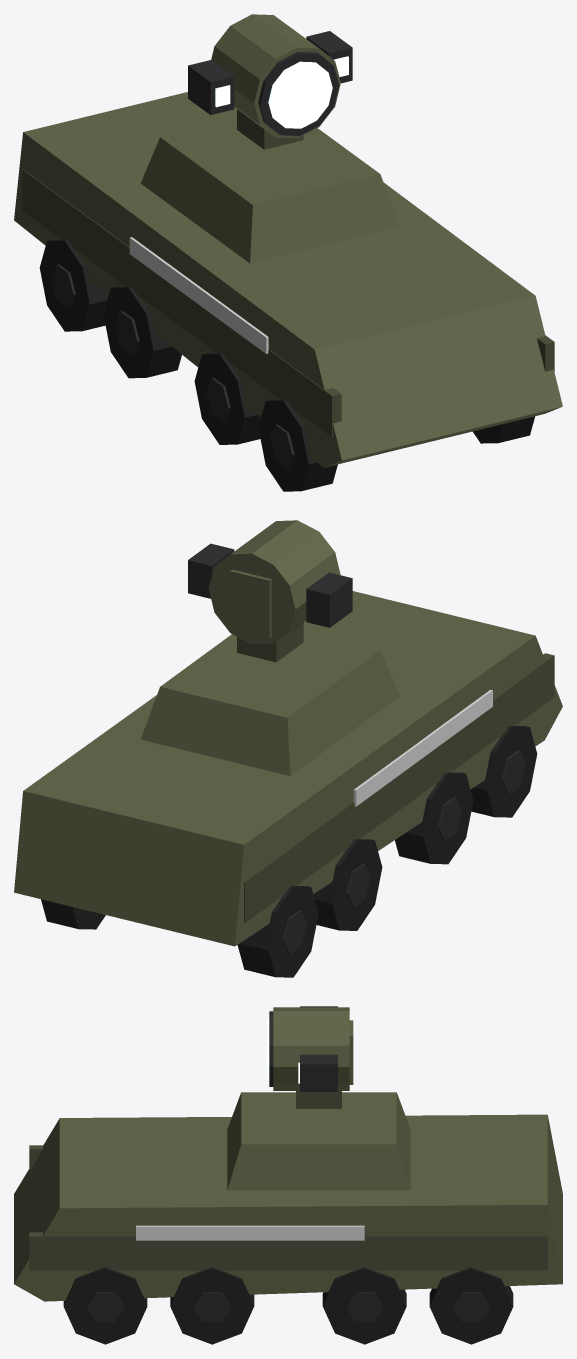
File: laser.glb
3 renders of one model, top to bottom at view 1: azimuth 30°, elevation 25°; view 2: azimuth 150°, elevation 25°; view 3: azimuth 270°, elevation 25°, orthographic. The views are drawn at different scales.
Parts seen in each view (by area): view 1: Body; view 2: Body; view 3: Body.
Boxes of the visible parts, bbox=[...] form: Body: bbox=[14, 14, 562, 491]; Body: bbox=[14, 520, 562, 977]; Body: bbox=[14, 1006, 562, 1344].
Bounding box in the file's own units: 2.96 × 4.15 × 7.2.
